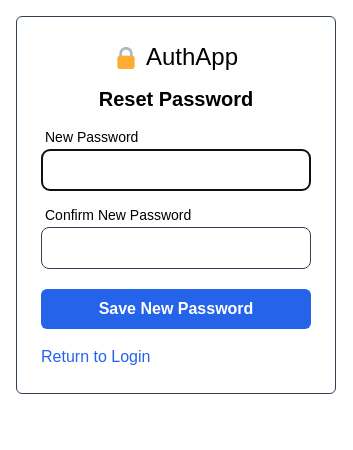
Test: AccountApp › update-password › validation › validates password confirmation
Expected: the heading "AuthApp" is shown, [146, 41, 238, 73]
Type "notapassword" into the password field labelled "Confirm New Password" at (176, 248), box [41, 227, 311, 269]
Then press Enter
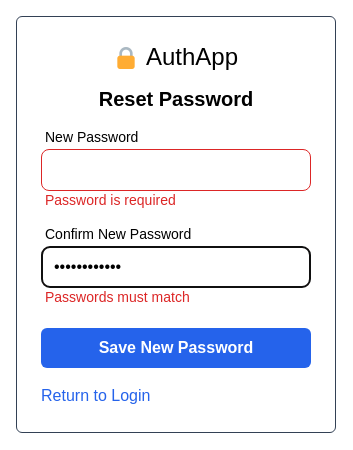
Expected: the text "Passwords must match" is shown, [45, 289, 190, 305]
